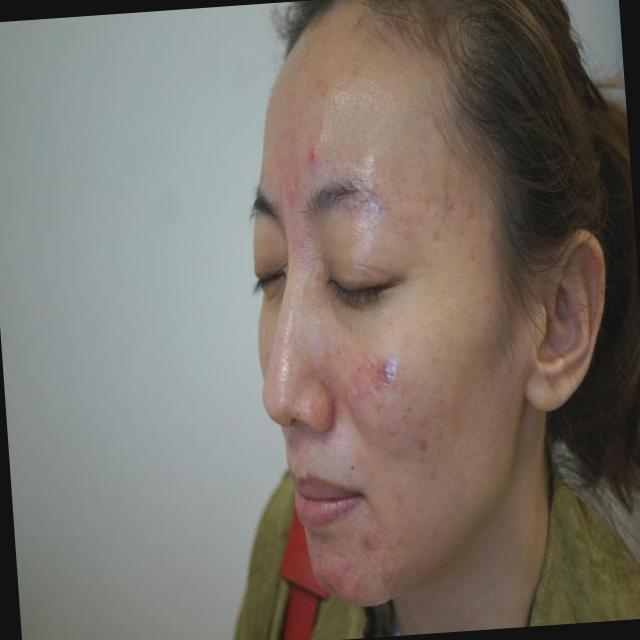acne: (372, 343, 400, 395), (380, 566, 400, 596), (325, 562, 346, 589), (304, 138, 322, 168), (413, 432, 431, 462), (482, 220, 498, 248), (364, 530, 381, 556), (350, 576, 368, 598)
